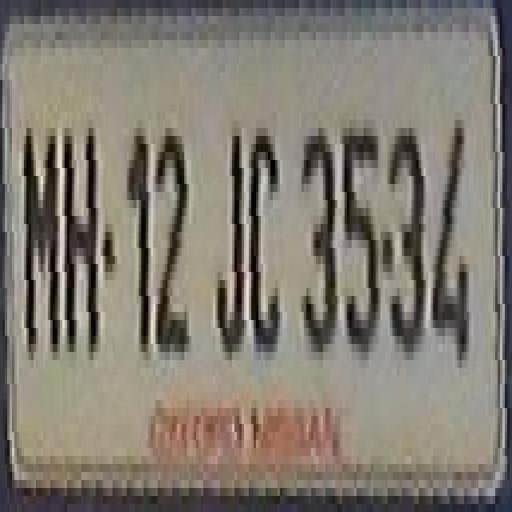number plate: (0, 8, 488, 472)
